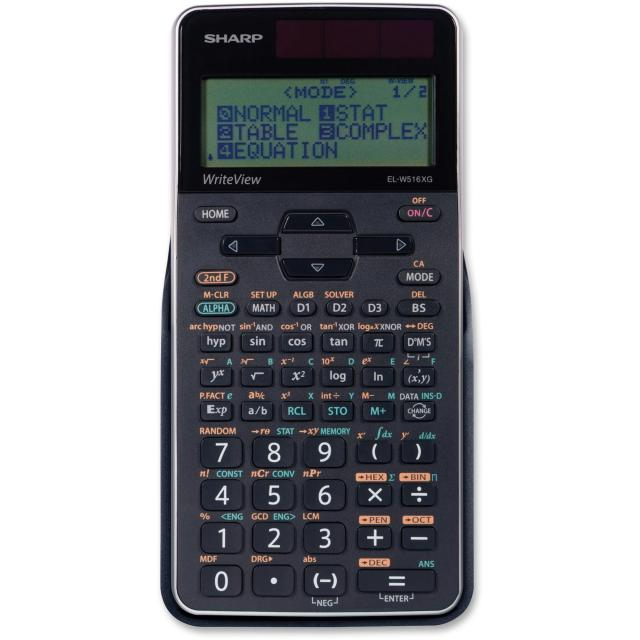Calculator: (128, 6, 523, 640)
